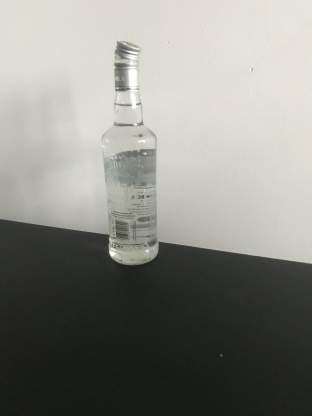nakretka: (112, 38, 142, 92)
